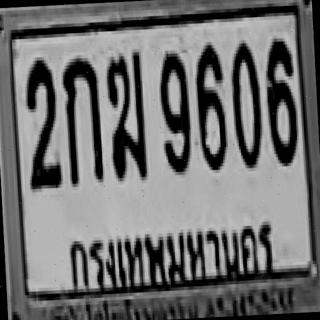A01: (60, 55, 103, 184)
A06: (104, 49, 147, 178)
N00: (228, 40, 262, 166)
N02: (22, 57, 60, 189)
N06: (193, 43, 227, 169), (264, 38, 298, 164)
N09: (157, 50, 191, 173)
P04: (60, 215, 282, 295)
